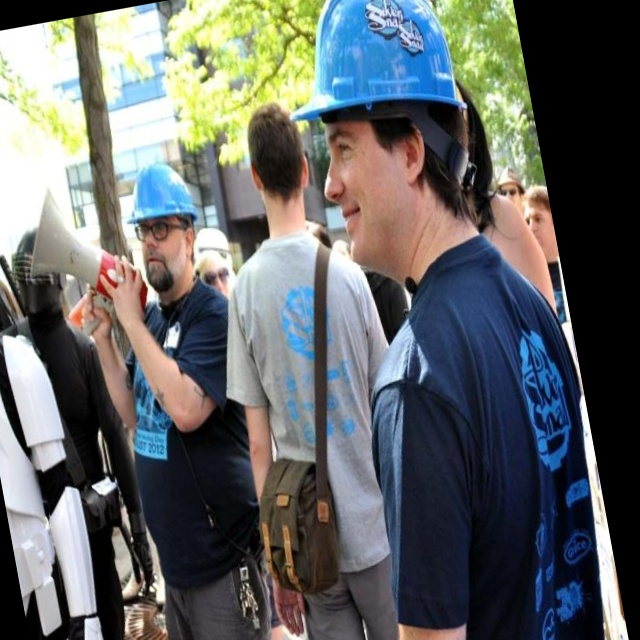Con_Casco: (276, 0, 493, 275), (121, 158, 211, 298)
Sin_Casco_Mascarrilla: (241, 97, 317, 228)
Sin_Chaleco: (342, 239, 624, 640)
